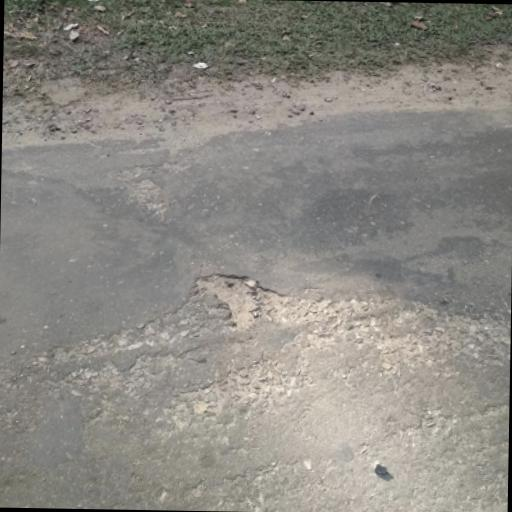pothole: (190, 270, 264, 334)
